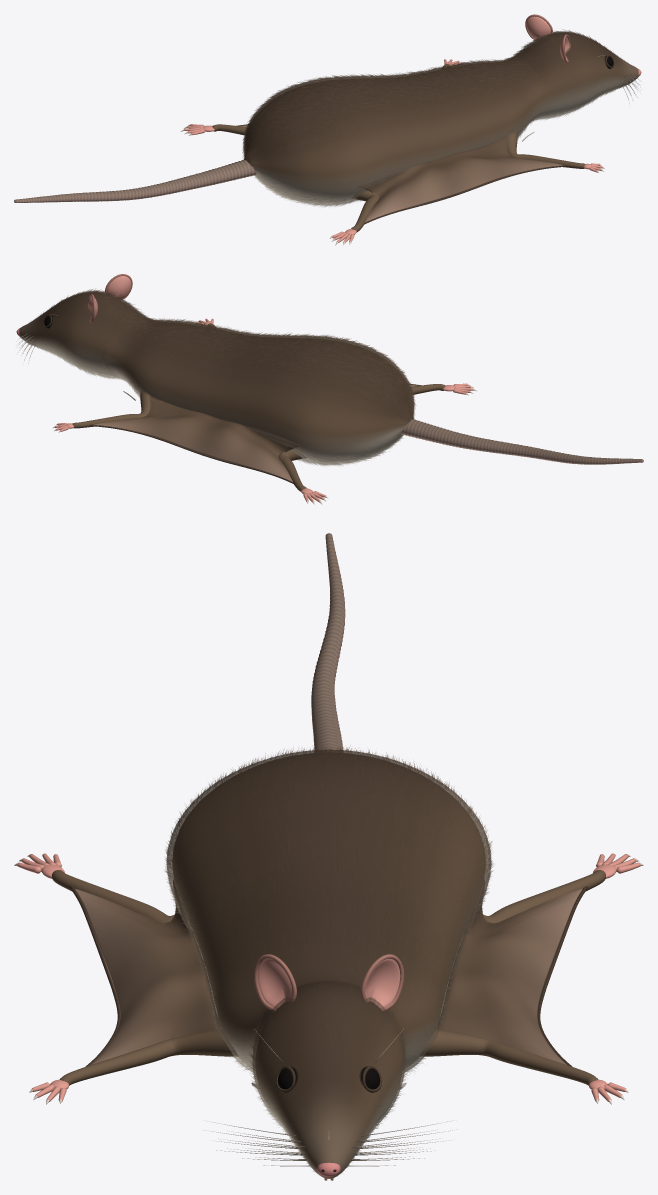
Rendered from tetrapod-ce2113eabafa.glb.
3 views of the same model, one above another, from view 1: azimuth 30°, elevation 25°; view 2: azimuth 150°, elevation 25°; view 3: azimuth 270°, elevation 25° (orthographic). The views are drawn at different scales.
Visible parts, largest first — view 1: slot:skin, slot:trunk, deco:skin:fur, slot:wing_membrane:right, slot:head, slot:tail, slot:forelimb:right, slot:hindlimb:right, deco:wing_membrane:rim, slot:ear:left; view 2: slot:skin, slot:trunk, deco:skin:fur, slot:wing_membrane:left, slot:head, slot:tail, slot:forelimb:left, slot:hindlimb:left, deco:wing_membrane:rim, slot:ear:right; view 3: slot:skin, slot:trunk, slot:head, slot:wing_membrane:right, slot:wing_membrane:left, deco:skin:fur, slot:tail, slot:forelimb:right, slot:forelimb:left, deco:head:vibrissae (×2), slot:hindlimb:right, slot:hindlimb:left (+2 smaller).
Boxes of the visible parts, x1,y1,x2,y2 form: slot:skin: (244, 31, 638, 204); slot:trunk: (244, 57, 555, 202); deco:skin:fur: (242, 30, 631, 207); slot:wing_membrane:right: (358, 136, 563, 222); slot:head: (517, 32, 638, 117); slot:tail: (14, 159, 256, 202); slot:forelimb:right: (507, 131, 585, 168); slot:hindlimb:right: (351, 190, 379, 232); deco:wing_membrane:rim: (363, 165, 567, 224); slot:ear:left: (526, 16, 550, 39); slot:skin: (19, 291, 413, 463); slot:trunk: (102, 316, 413, 462); deco:skin:fur: (25, 289, 416, 466); slot:wing_membrane:left: (94, 396, 299, 481); slot:head: (19, 292, 141, 376); slot:tail: (401, 419, 643, 464); slot:forelimb:left: (72, 391, 150, 428); slot:hindlimb:left: (278, 449, 306, 491); deco:wing_membrane:rim: (90, 424, 294, 483); slot:ear:right: (107, 276, 131, 299); slot:skin: (166, 749, 491, 1178); slot:trunk: (172, 752, 485, 1068); slot:head: (255, 983, 402, 1178); slot:wing_membrane:right: (75, 879, 220, 1064); slot:wing_membrane:left: (437, 879, 582, 1064); deco:skin:fur: (164, 745, 493, 1176); slot:tail: (311, 533, 345, 752); slot:forelimb:right: (59, 1029, 238, 1085); slot:forelimb:left: (419, 1029, 598, 1085); deco:head:vibrissae (×2): (203, 1029, 456, 1166); slot:hindlimb:right: (52, 870, 191, 929); slot:hindlimb:left: (466, 870, 605, 929).
Size of the model in its own units: 5.02 by 0.8942 by 2.25.
